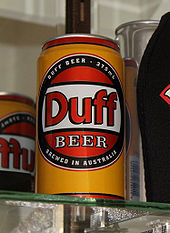beer can: (37, 34, 124, 205), (1, 89, 36, 192)
